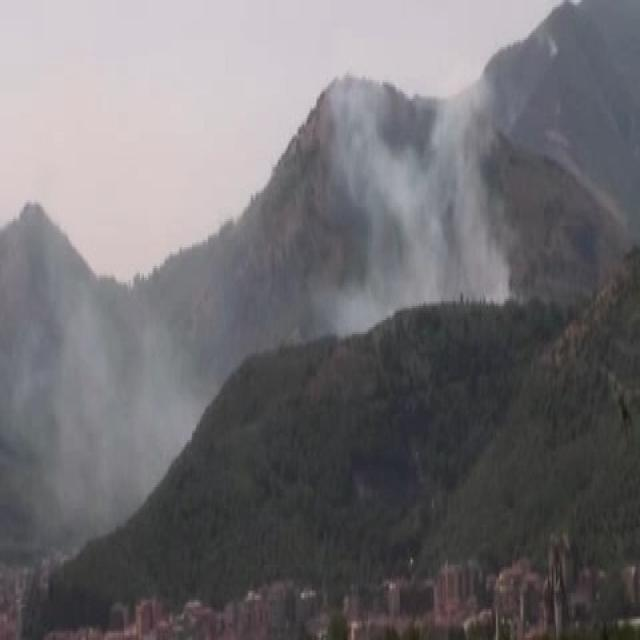Smoke: (316, 56, 498, 321), (38, 284, 184, 488)
